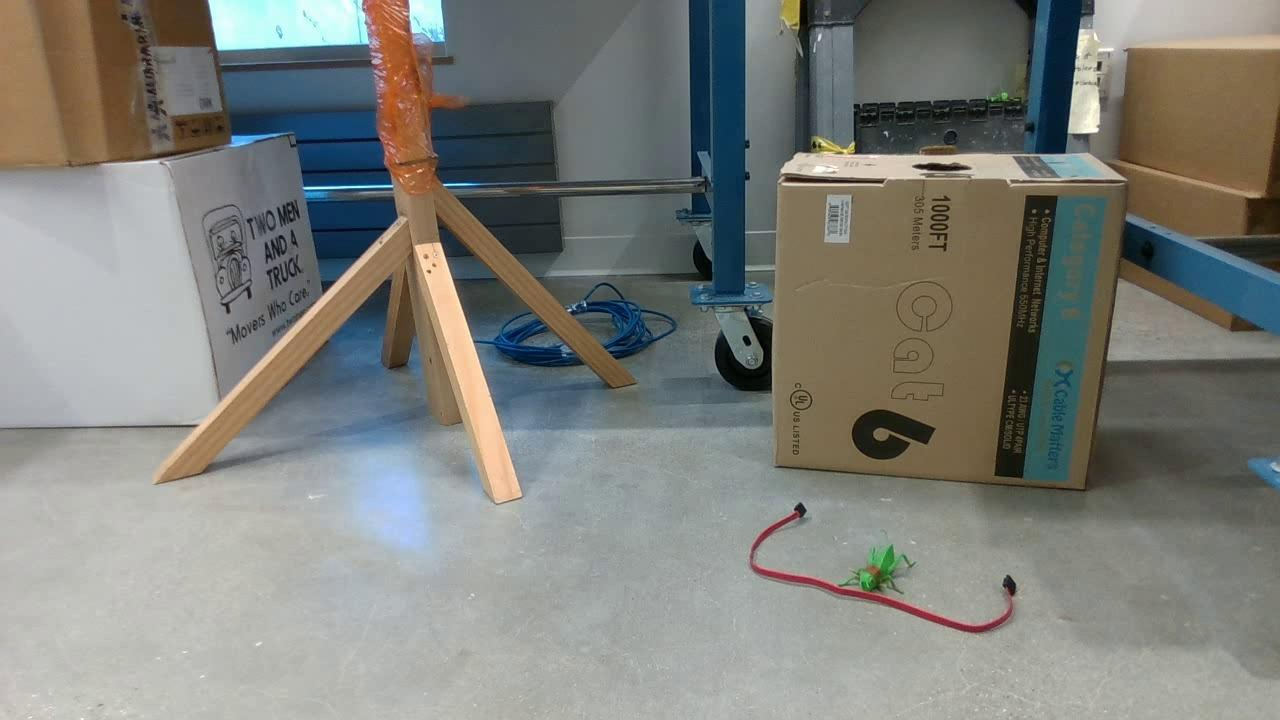grasshopper: (846, 540, 911, 600), (988, 91, 1013, 101)
